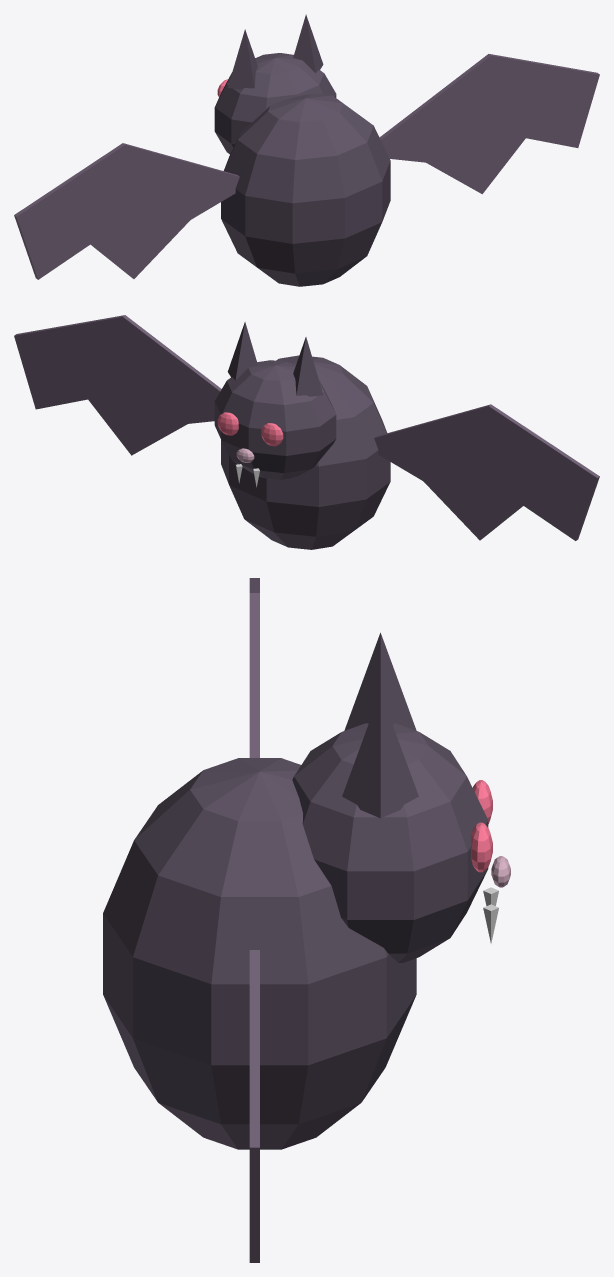
Rendered from NightBat.fbx.
3 renders of one model, top to bottom at view 1: azimuth 30°, elevation 25°; view 2: azimuth 150°, elevation 25°; view 3: azimuth 270°, elevation 25°, orthographic. The views are drawn at different scales.
Parts seen in each view (by area): view 1: Enemy_NightBat; view 2: Enemy_NightBat; view 3: Enemy_NightBat.
Boxes of the visible parts, left/top/right/bottom form: Enemy_NightBat: left=14, top=14, right=599, bottom=286; Enemy_NightBat: left=14, top=315, right=599, bottom=549; Enemy_NightBat: left=103, top=578, right=510, bottom=1262.
Bounding box in the file's own units: 1.34 × 0.52 × 0.4057.
